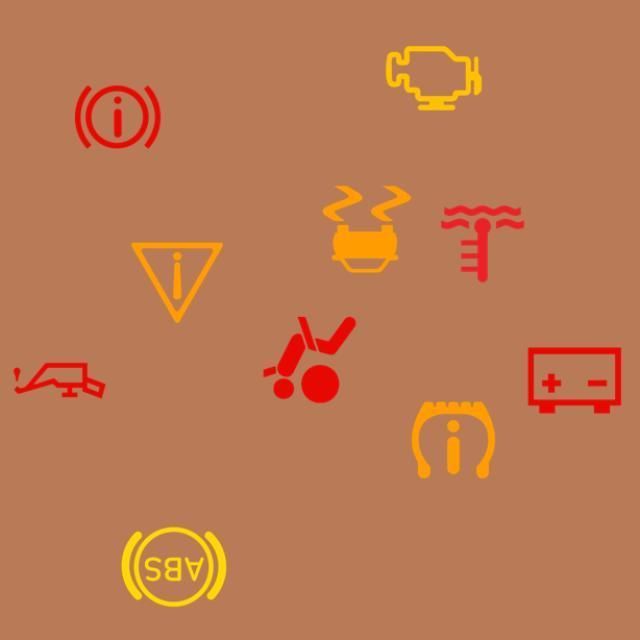High Engine Coolant Temperature: (425, 186, 540, 302)
